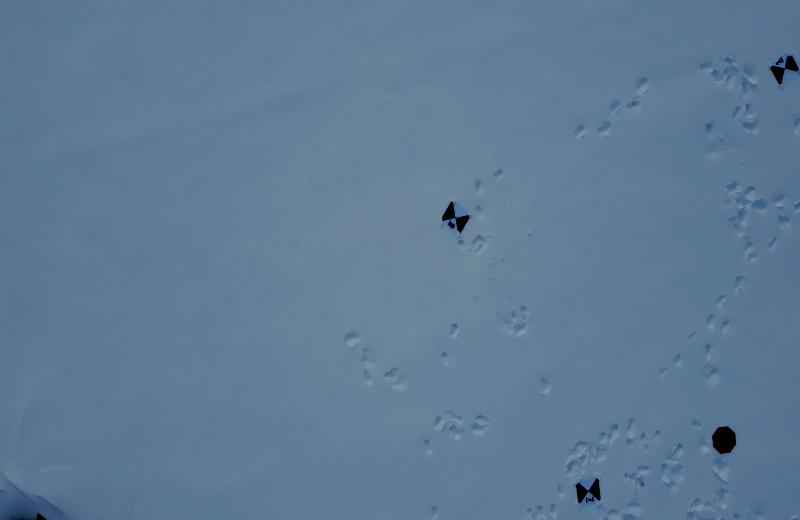Octagon: (708, 423, 739, 458)
